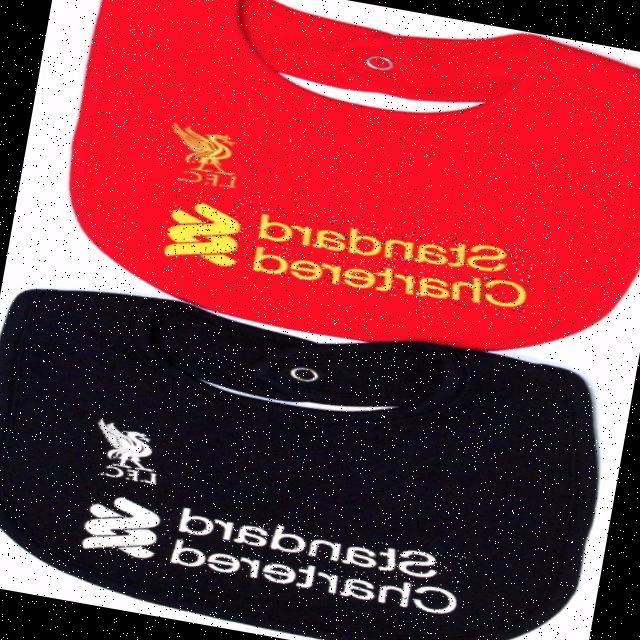Standard Chartered: (160, 187, 534, 319), (78, 491, 465, 616)
